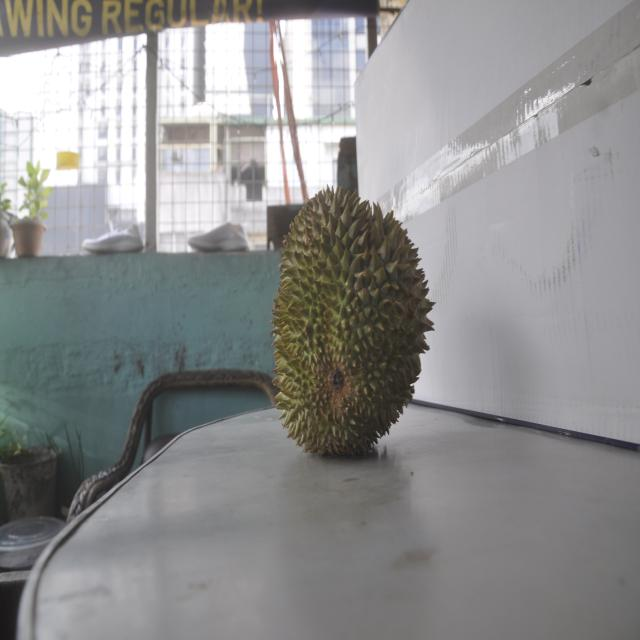mature: (273, 185, 426, 456)
